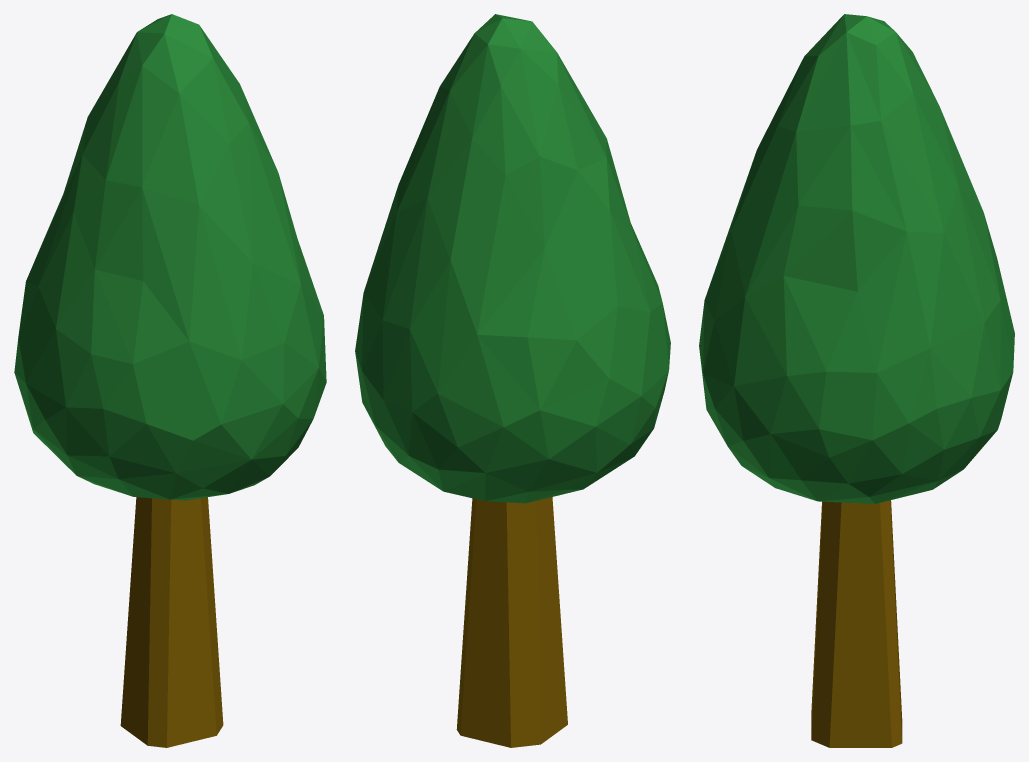
Rendered from tree2.fbx.
3 views of the same model, side by side, from view 1: azimuth 30°, elevation 25°; view 2: azimuth 150°, elevation 25°; view 3: azimuth 270°, elevation 25° (orthographic).
Parts seen in each view (by area): view 1: Icosphere; view 2: Icosphere; view 3: Icosphere.
Part boxes in pixels (x1,y1,x2,y2): Icosphere: [14, 14, 326, 747]; Icosphere: [355, 14, 670, 747]; Icosphere: [699, 14, 1014, 747].
Size of the model in its own units: 420 by 1046 by 419.
